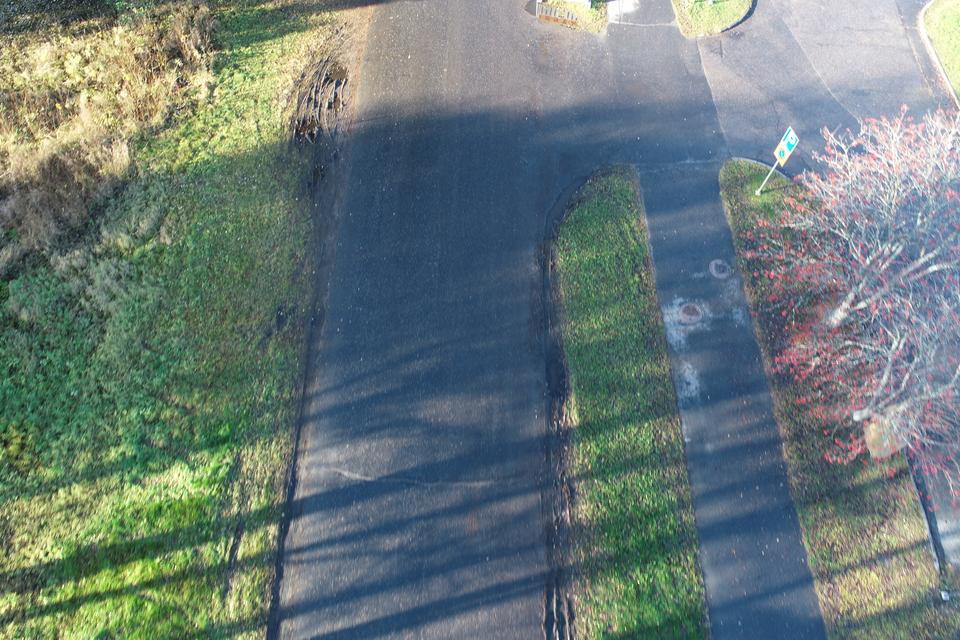intersection: (251, 0, 960, 230)
